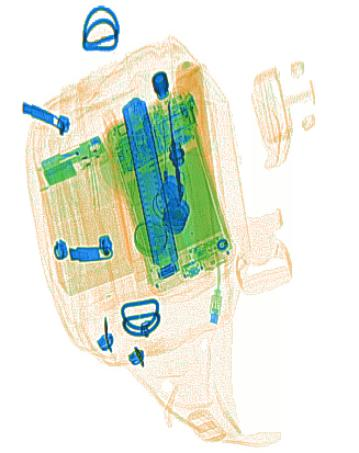knife: (121, 97, 180, 268)
